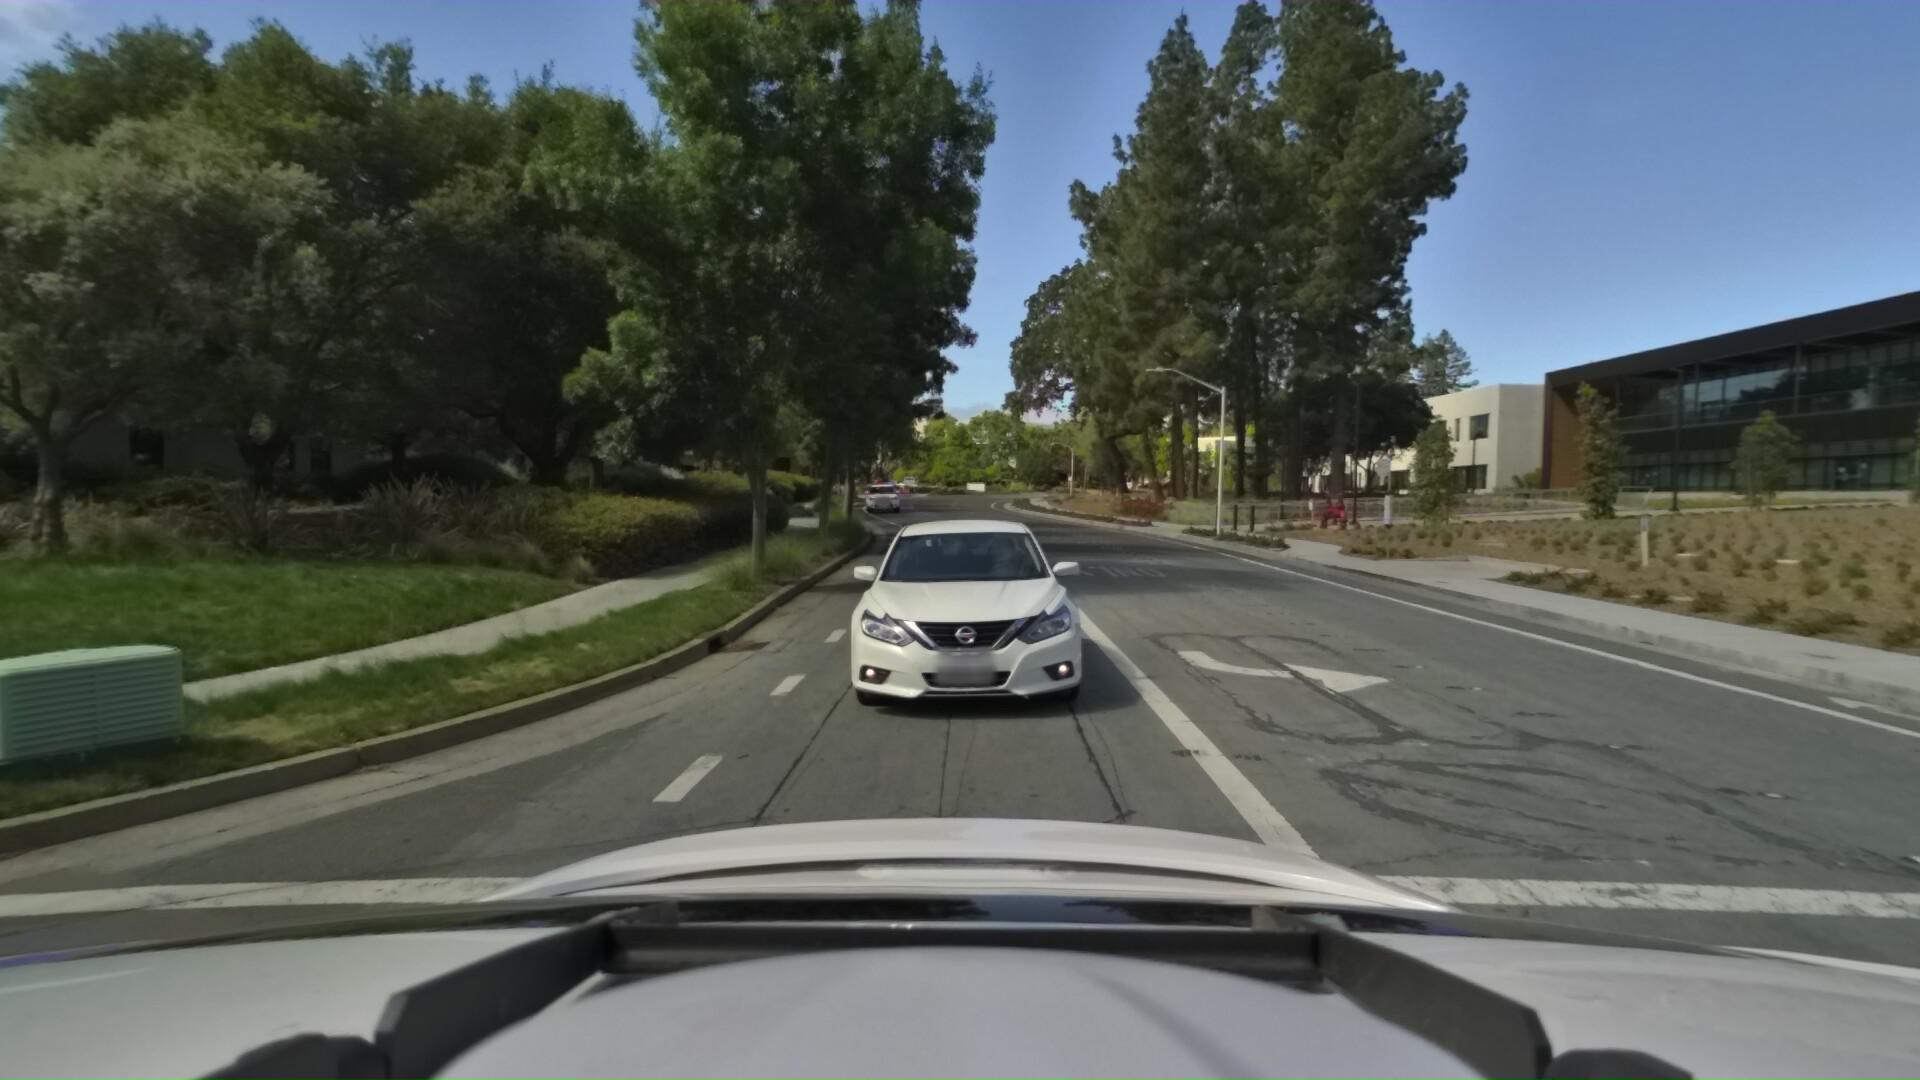car: (825, 491, 1098, 727), (862, 476, 899, 512)
